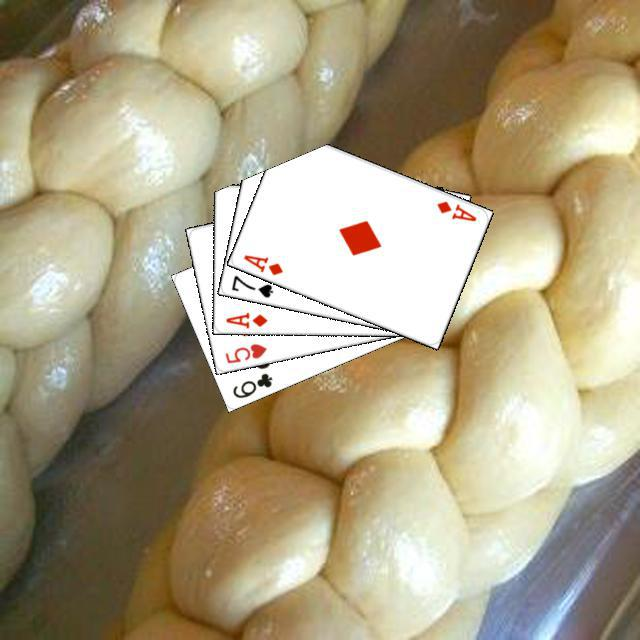5h: (220, 339, 268, 365)
6c: (228, 368, 274, 400)
7s: (227, 270, 275, 299)
Ad: (238, 250, 285, 277), (432, 196, 478, 223), (221, 307, 269, 330)
